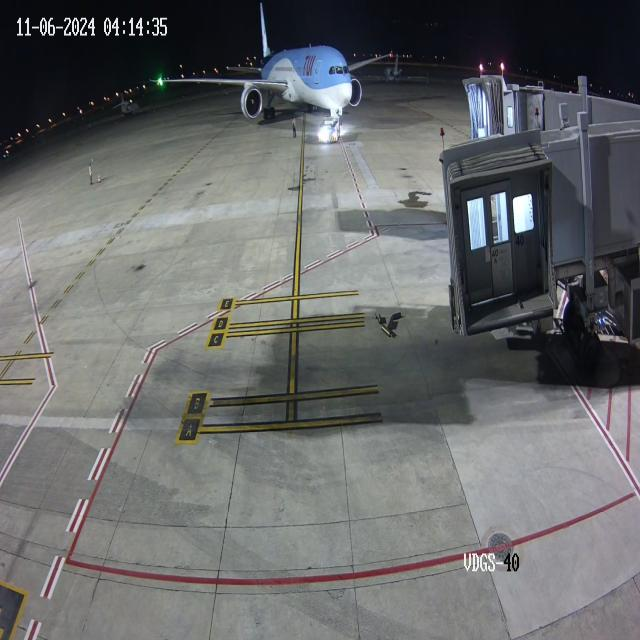bridge: (486, 72, 545, 140)
plane: (141, 0, 413, 146)
window: (326, 62, 351, 79)
